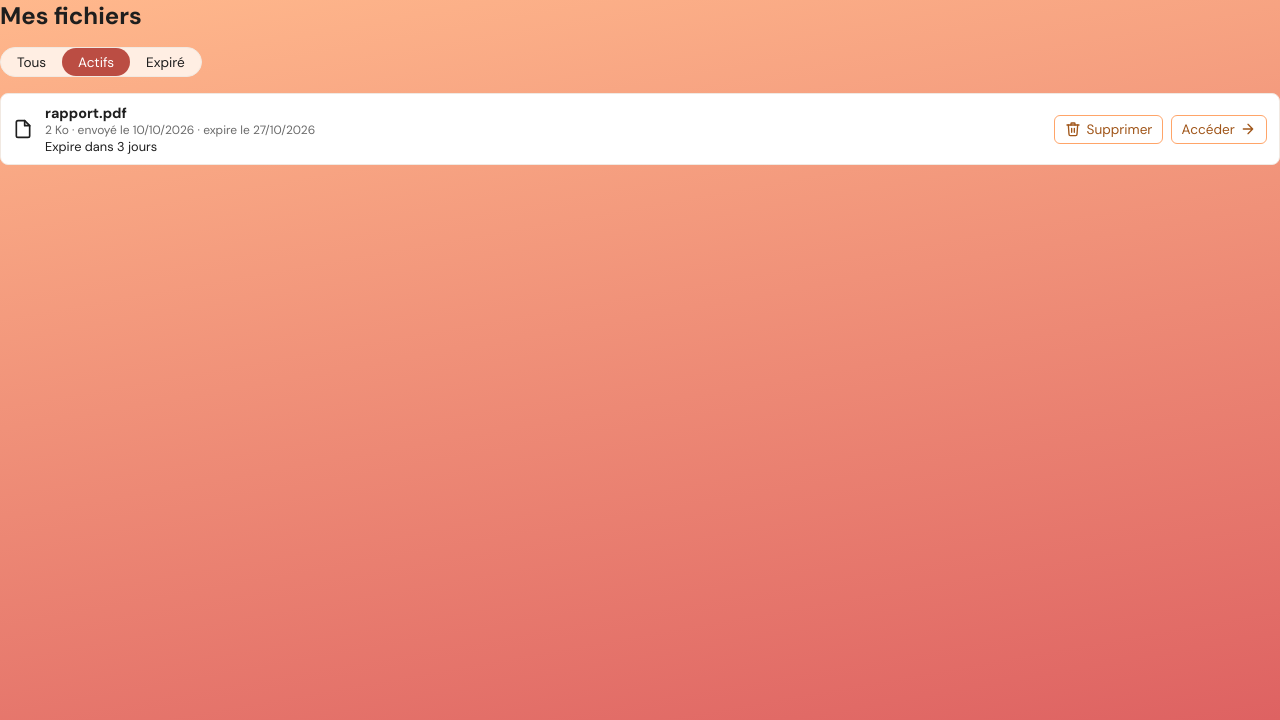
Test case: Page Mes fichiers › supprime un fichier après confirmation, et rien sans confirmation
What coordinates should you click on to do the following:
click the button with aria-label "Supprimer rapport.pdf"
I would click on:
 (1109, 129)
Its box is x1=1054 y1=115 x2=1163 y2=144.
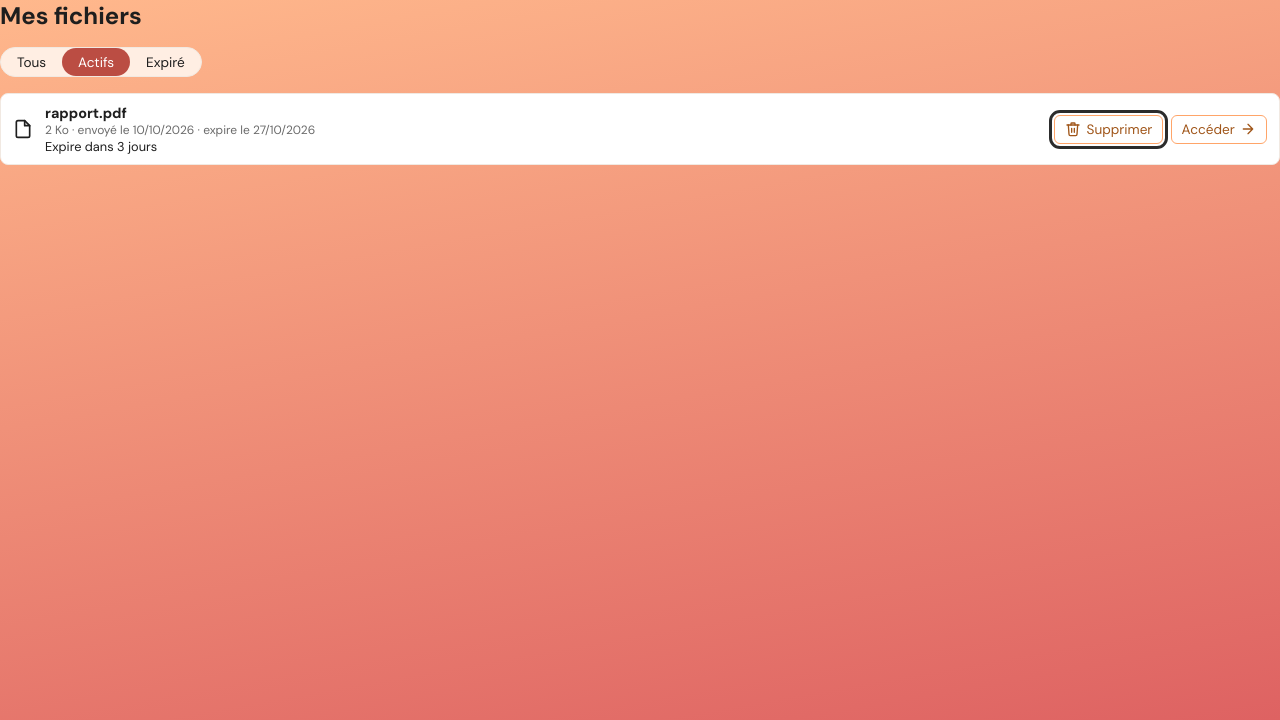
What coordinates should you click on to do the following:
click the button with aria-label "Supprimer rapport.pdf"
I would click on:
 (1109, 129)
Its box is x1=1054 y1=115 x2=1163 y2=144.
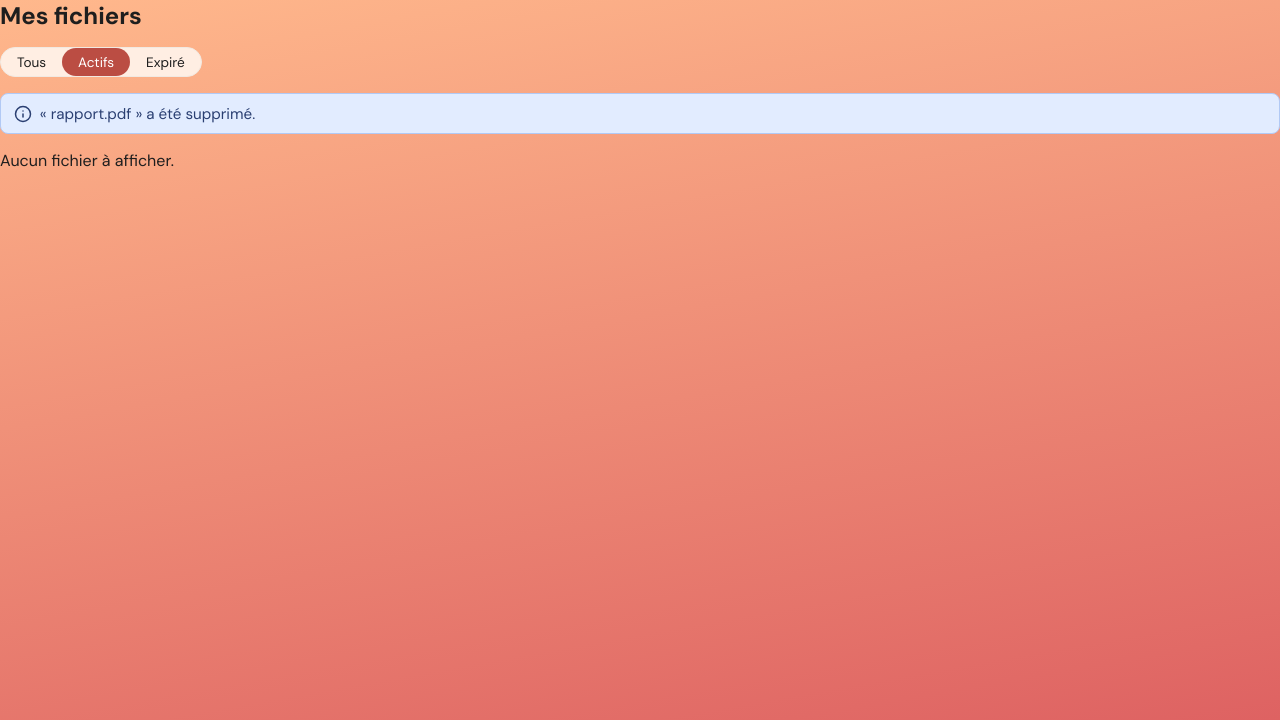
Expected: the text "« rapport.pdf » a été supprimé." is shown, x1=40 y1=104 x2=255 y2=124
